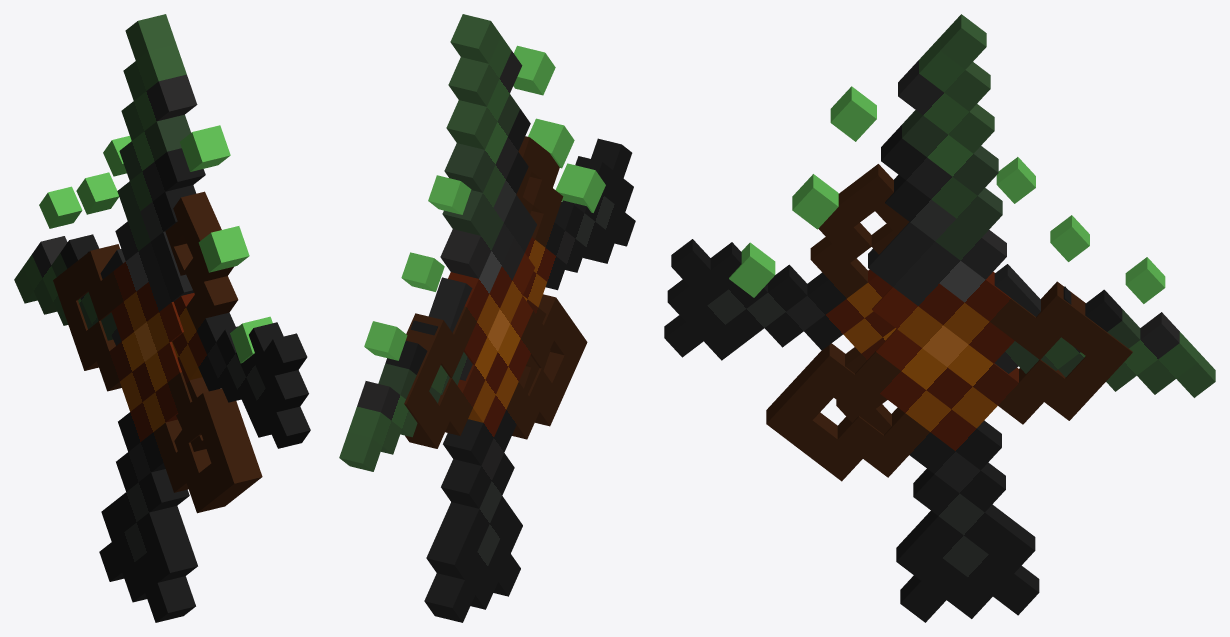
The model's file is myrmex_desert_venom_katzbalger.glb.
3 views of the same model, side by side, from view 1: azimuth 30°, elevation 25°; view 2: azimuth 150°, elevation 25°; view 3: azimuth 270°, elevation 25° (orthographic).
Parts seen in each view (by area): view 1: off__Tool_L, main__Tool_R; view 2: off__Tool_L, main__Tool_R; view 3: off__Tool_L, main__Tool_R.
Part boxes in pixels (x1,y1,x2,y2): off__Tool_L: [53, 14, 272, 622]; main__Tool_R: [14, 135, 310, 451]; off__Tool_L: [404, 14, 605, 622]; main__Tool_R: [339, 136, 635, 471]; off__Tool_L: [729, 14, 1132, 622]; main__Tool_R: [664, 157, 1215, 434].
Bounding box in the file's own units: 0.0625 × 1.25 × 1.05.
Materials: 1 (1 with a texture image).
